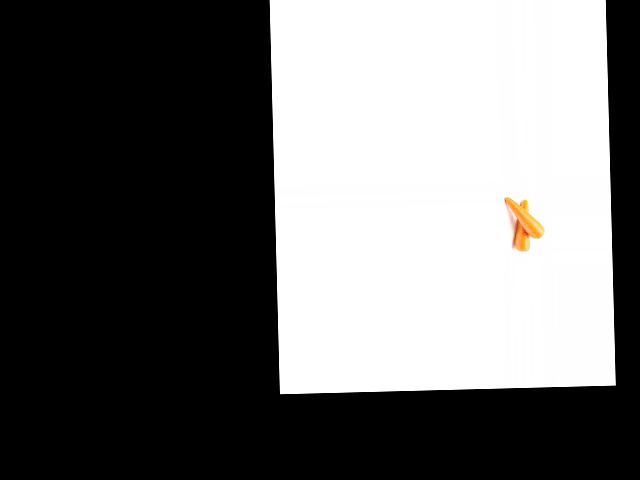carrot: (511, 193, 532, 255)
